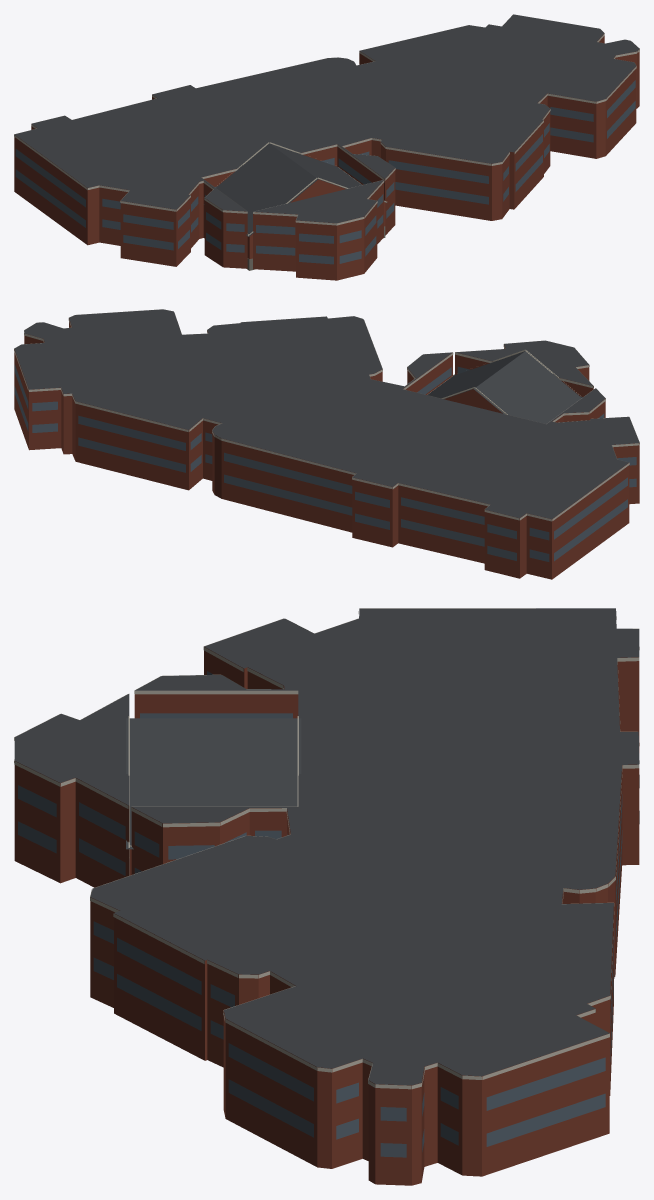
File: pleasant-valley-church-of-christ.glb
3 renders of one model, top to bottom at view 1: azimuth 30°, elevation 25°; view 2: azimuth 150°, elevation 25°; view 3: azimuth 270°, elevation 25°, orthographic. The views are drawn at different scales.
Visible parts, largest first — view 1: pleasant_valley_church_of_christ; view 2: pleasant_valley_church_of_christ; view 3: pleasant_valley_church_of_christ.
Boxes of the visible parts, left/top/right/bottom form: pleasant_valley_church_of_christ: left=14, top=14, right=639, bottom=280; pleasant_valley_church_of_christ: left=14, top=309, right=639, bottom=579; pleasant_valley_church_of_christ: left=14, top=608, right=639, bottom=1185.
Size of the model in its own units: 128 by 16.84 by 70.71.
